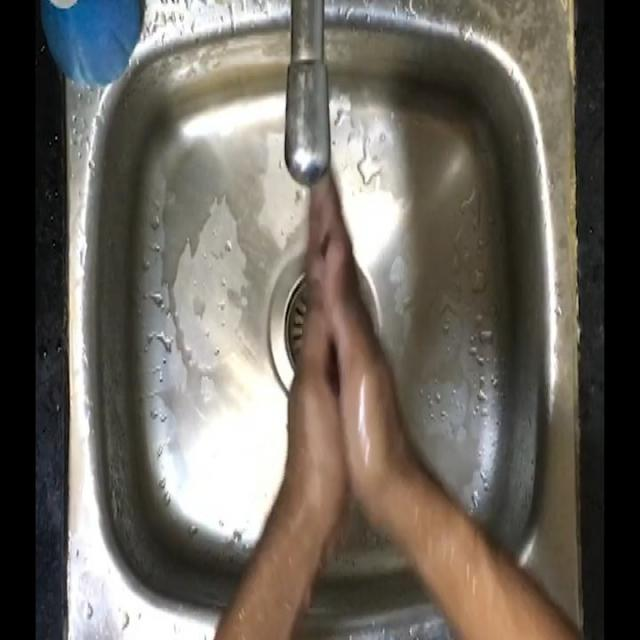step_1: (260, 152, 408, 468)
